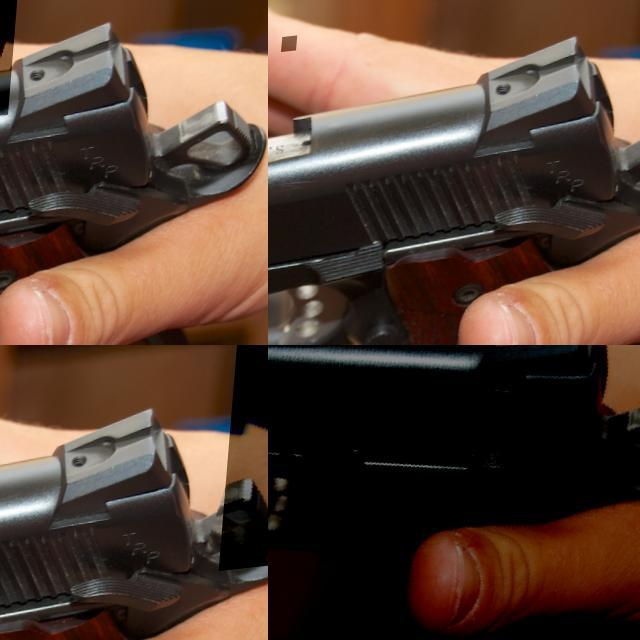-: (0, 0, 73, 133), (427, 245, 458, 266), (268, 300, 280, 328), (283, 37, 299, 54), (484, 22, 498, 36)
gun-knife-thesis - v11 Yolov5 augmented: (268, 345, 640, 640), (224, 345, 268, 582)
